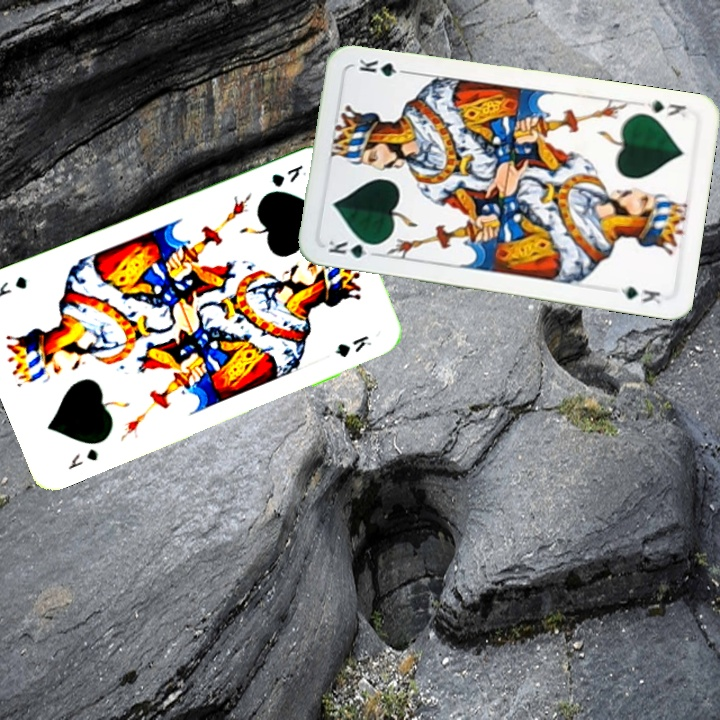GK: (324, 236, 382, 261), (267, 161, 306, 190), (643, 96, 688, 121), (64, 444, 101, 472)
